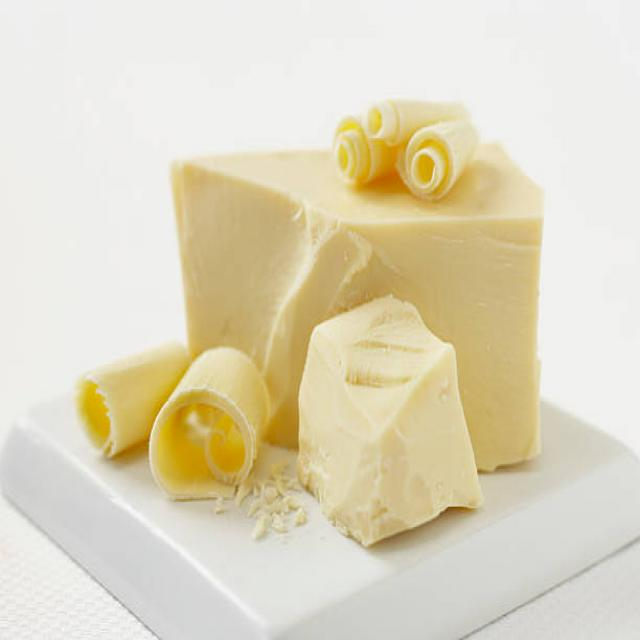chocolate: (171, 116, 547, 469), (299, 292, 480, 547)
